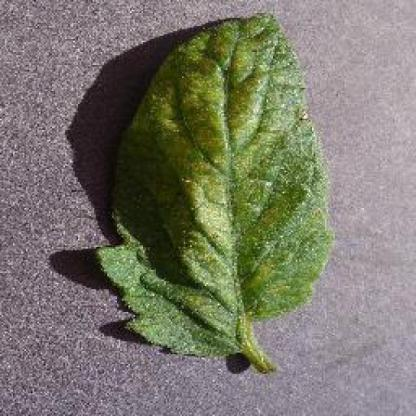Tomato_Spider_Mites: (98, 14, 327, 358)
